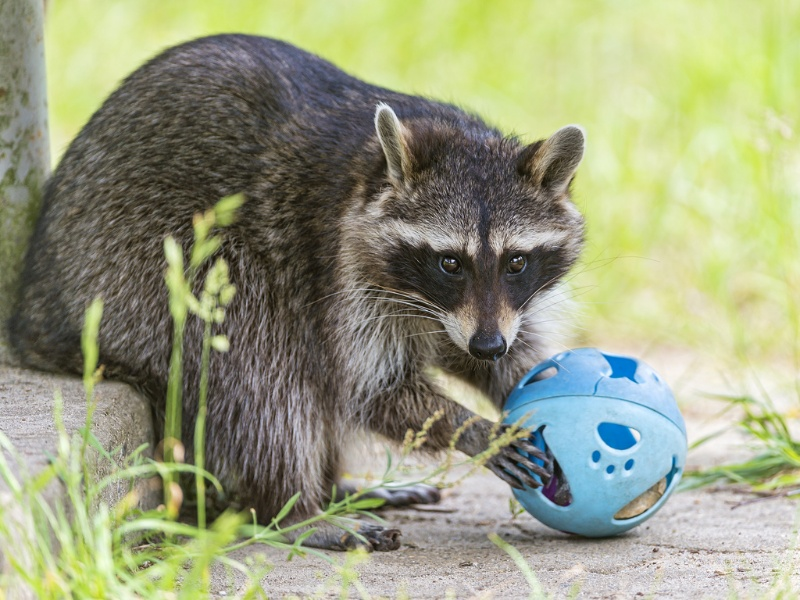raccoon: (2, 23, 588, 554)
